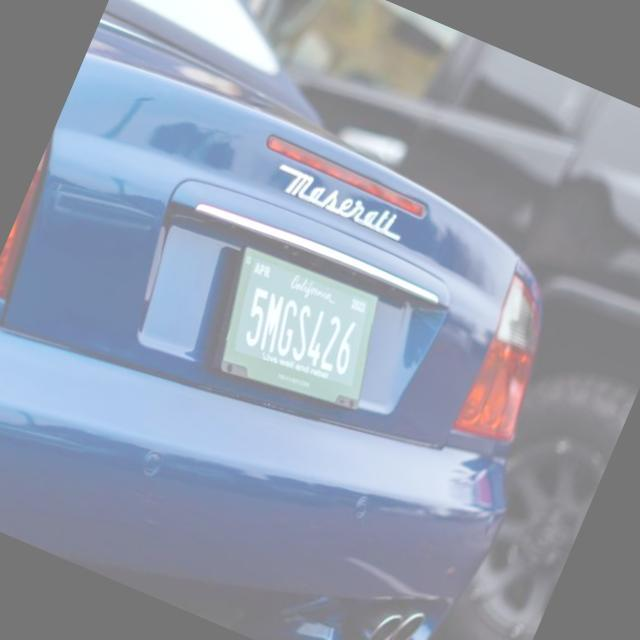Plat: (217, 240, 384, 414)
